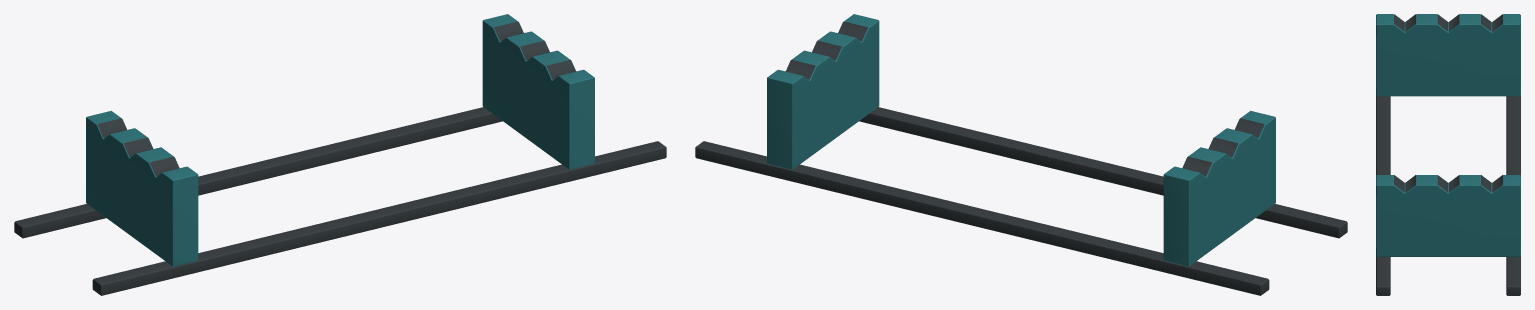
The model's file is VLAB_pipette_rack.fbx.
3 renders of one model, left to right at view 1: azimuth 30°, elevation 25°; view 2: azimuth 150°, elevation 25°; view 3: azimuth 270°, elevation 25°, orthographic. The views are drawn at different scales.
Parts seen in each view (by area): view 1: VLAB_pipette_rack_Slots_VIS, VLAB_pipette_rack_SupportB_VIS, VLAB_pipette_rack_SupportA_VIS; view 2: VLAB_pipette_rack_Slots_VIS, VLAB_pipette_rack_SupportB_VIS, VLAB_pipette_rack_SupportA_VIS; view 3: VLAB_pipette_rack_SupportA_VIS, VLAB_pipette_rack_SupportB_VIS, VLAB_pipette_rack_Slots_VIS.
Boxes of the visible parts, x1,y1,x2,y2 form: VLAB_pipette_rack_Slots_VIS: [14, 21, 666, 295]; VLAB_pipette_rack_SupportB_VIS: [482, 14, 594, 169]; VLAB_pipette_rack_SupportA_VIS: [86, 110, 198, 266]; VLAB_pipette_rack_Slots_VIS: [695, 21, 1347, 295]; VLAB_pipette_rack_SupportB_VIS: [767, 14, 879, 169]; VLAB_pipette_rack_SupportA_VIS: [1163, 110, 1275, 266]; VLAB_pipette_rack_SupportA_VIS: [1376, 14, 1520, 96]; VLAB_pipette_rack_SupportB_VIS: [1376, 175, 1520, 256]; VLAB_pipette_rack_Slots_VIS: [1376, 14, 1520, 295].
Bounding box in the file's own units: 0.3 × 0.0501 × 0.08.
